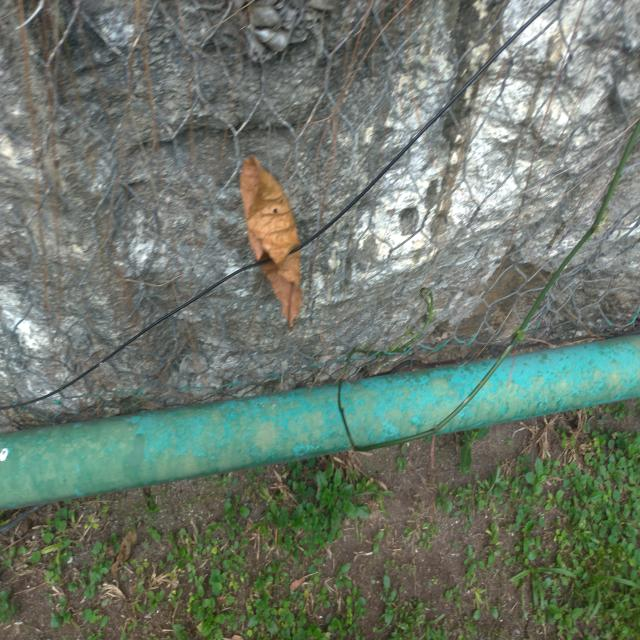gas: (7, 334, 635, 506)
